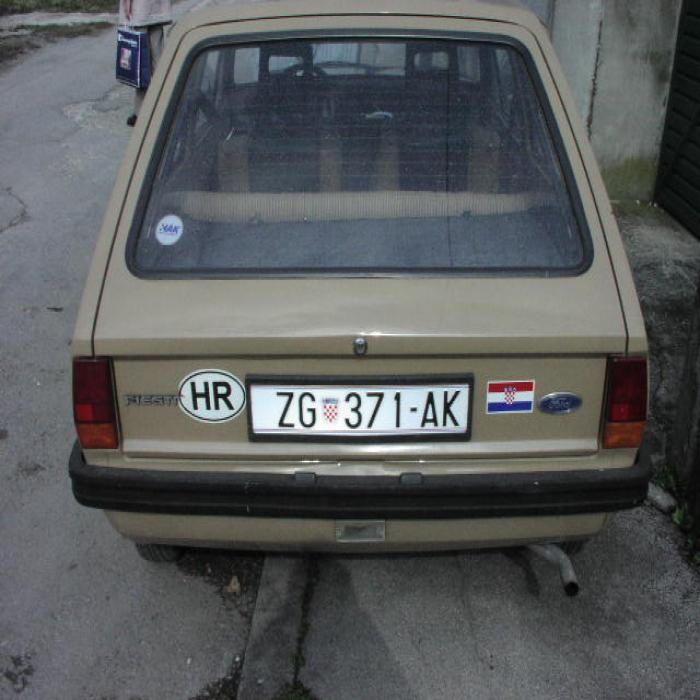number_plate: (248, 385, 467, 432)
